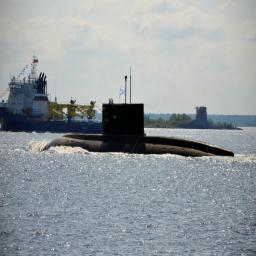submarine: (37, 96, 242, 163)
